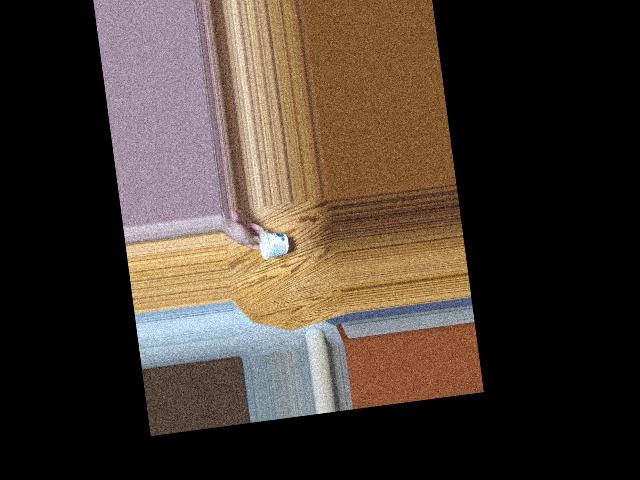cotage: (253, 231, 286, 263)
